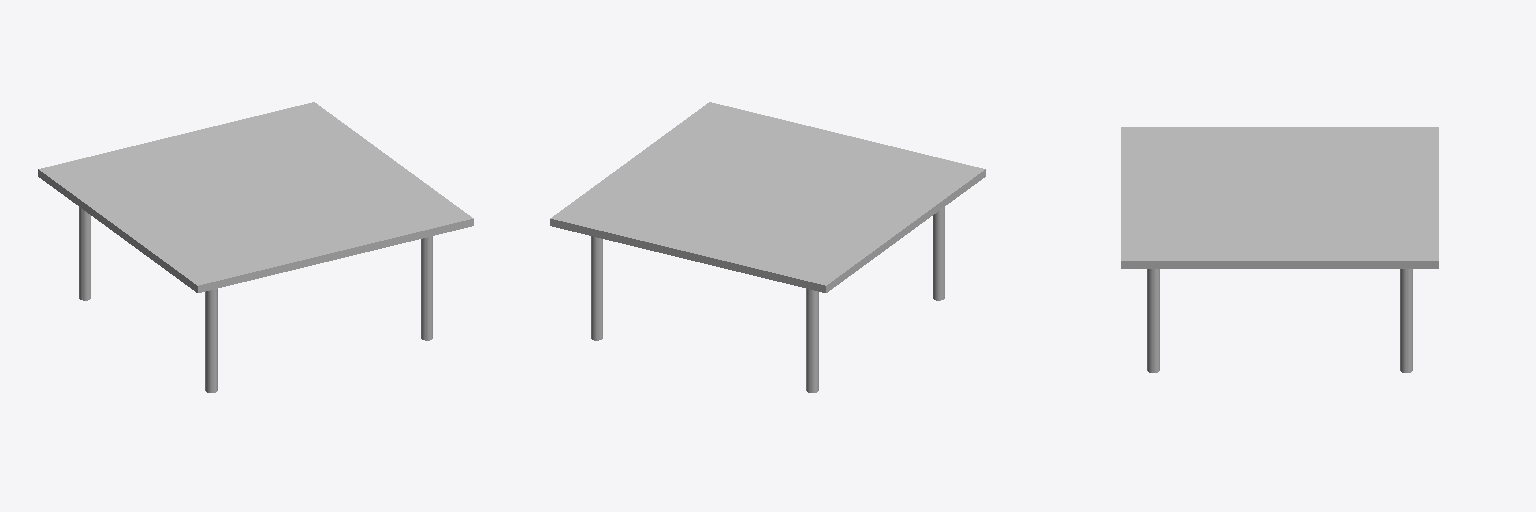
Rendered from table.obj.
3 renders of one model, left to right at view 1: azimuth 30°, elevation 25°; view 2: azimuth 150°, elevation 25°; view 3: azimuth 270°, elevation 25°, orthographic.
Visible parts, largest first — view 1: Cube.001, Cylinder; view 2: Cube.001, Cylinder; view 3: Cube.001, Cylinder.
Boxes of the visible parts, x1,y1,x2,y2 form: Cube.001: [38, 102, 473, 292]; Cylinder: [79, 207, 432, 392]; Cube.001: [550, 102, 985, 292]; Cylinder: [591, 207, 944, 392]; Cube.001: [1121, 127, 1438, 268]; Cylinder: [1147, 269, 1412, 372].
Size of the model in its own units: 4 by 1.72 by 4.